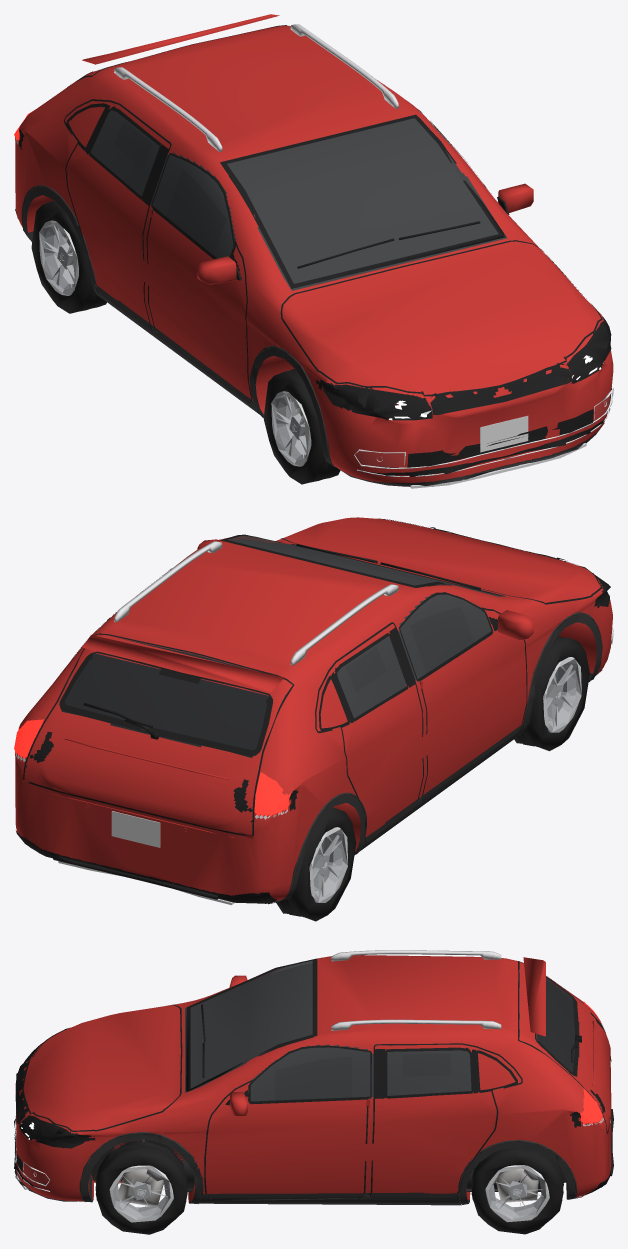
File: compactHatchCross-lod1.glb
3 renders of one model, top to bottom at view 1: azimuth 30°, elevation 25°; view 2: azimuth 150°, elevation 25°; view 3: azimuth 270°, elevation 25°, orthographic. The views are drawn at different scales.
Parts seen in each view (by area): view 1: Body, HoodSkin, Body_Lining, Body_Trim, Panel_FR, Panel_RR, Window_FR, Window_RR, Wheel_FR_Tyre, Wheel_RR_Tyre, Window_FR_Lining, Panel_RR_Trim (+11 smaller); view 2: Body, TrunkSkin, HoodSkin, Panel_FR, Panel_RR, Body_Trim, Body_Lining, Window_FR, TrunkSkin_Trim, Spoiler, Window_RR, Wheel_FR_Tyre (+13 smaller); view 3: Body, HoodSkin, Panel_FL, Body_Lining, Panel_RL, Body_Trim, TrunkSkin, Window_FL, Wheel_FL_Tyre, Wheel_RL_Tyre, Window_RL, Panel_RL_Trim (+14 smaller).
Boxes of the visible parts, x1,y1,x2,y2 form: Body: [15, 25, 613, 484]; HoodSkin: [282, 241, 600, 394]; Body_Lining: [67, 110, 506, 290]; Body_Trim: [14, 111, 611, 486]; Panel_FR: [149, 151, 250, 398]; Panel_RR: [65, 101, 169, 323]; Window_FR: [152, 154, 235, 258]; Window_RR: [90, 110, 159, 196]; Wheel_FR_Tyre: [263, 369, 340, 484]; Wheel_RR_Tyre: [31, 200, 106, 313]; Window_FR_Lining: [167, 169, 226, 253]; Panel_RR_Trim: [63, 99, 171, 330]; Body: [15, 535, 612, 902]; TrunkSkin: [24, 634, 292, 835]; HoodSkin: [283, 517, 600, 602]; Panel_FR: [400, 593, 525, 794]; Panel_RR: [316, 624, 421, 837]; Body_Trim: [14, 520, 609, 903]; Body_Lining: [65, 539, 490, 717]; Window_FR: [398, 592, 491, 679]; TrunkSkin_Trim: [23, 633, 293, 836]; Spoiler: [82, 635, 284, 693]; Window_RR: [337, 636, 406, 718]; Wheel_FR_Tyre: [514, 635, 589, 751]; Body: [15, 955, 611, 1203]; HoodSkin: [24, 1005, 179, 1130]; Panel_FL: [206, 1041, 367, 1193]; Body_Lining: [185, 963, 569, 1100]; Panel_RL: [372, 1044, 521, 1193]; Body_Trim: [14, 958, 611, 1205]; TrunkSkin: [519, 962, 611, 1131]; Window_FL: [249, 1044, 370, 1101]; Wheel_FL_Tyre: [95, 1140, 187, 1234]; Wheel_RL_Tyre: [471, 1147, 563, 1234]; Window_RL: [387, 1050, 471, 1095]; Panel_RL_Trim: [370, 1043, 522, 1198].
Bounding box in the file's own units: 2.13 × 1.48 × 4.09.
